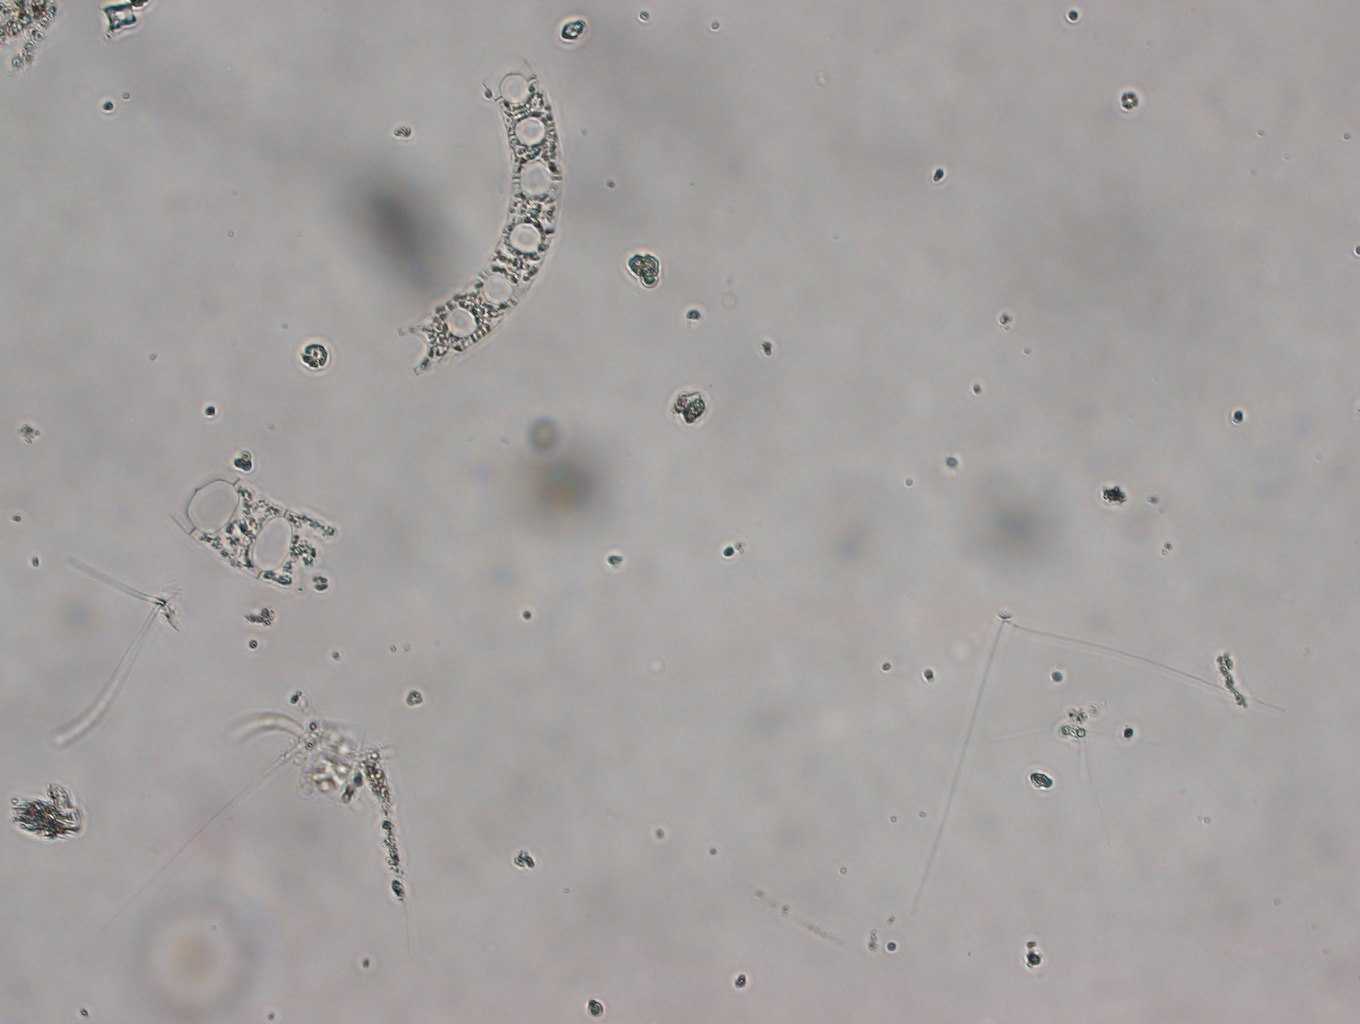eucampia: (386, 46, 570, 376), (156, 453, 340, 599)
